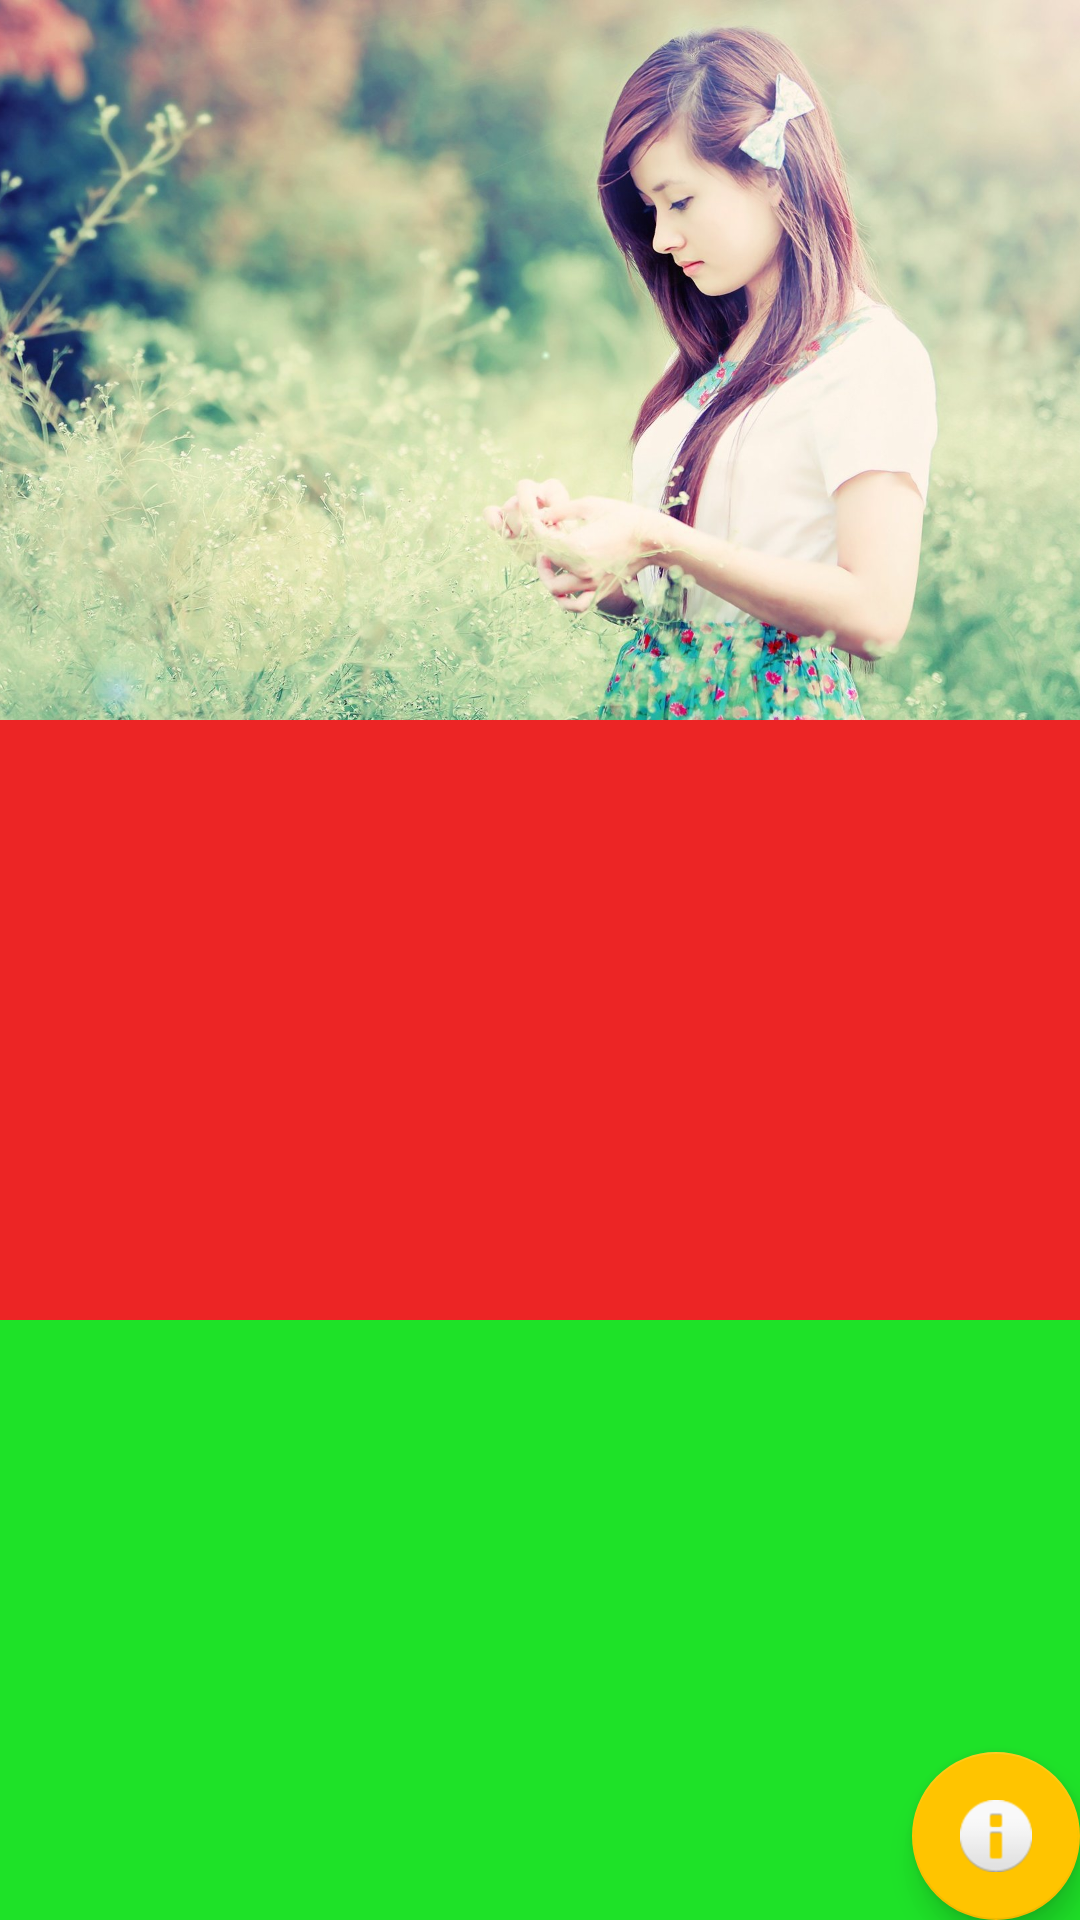

Where icons sit on this 1080×1920 app screen, as (x1, y1, x2, y2):
info: (912, 1752, 1080, 1920)
